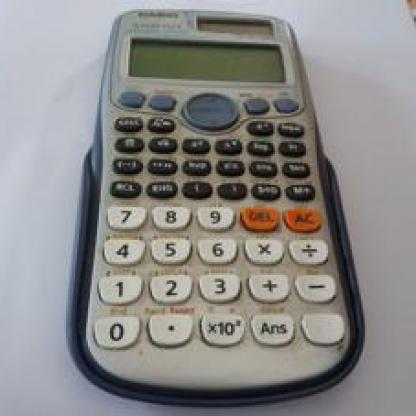calculator: (89, 7, 361, 401)
